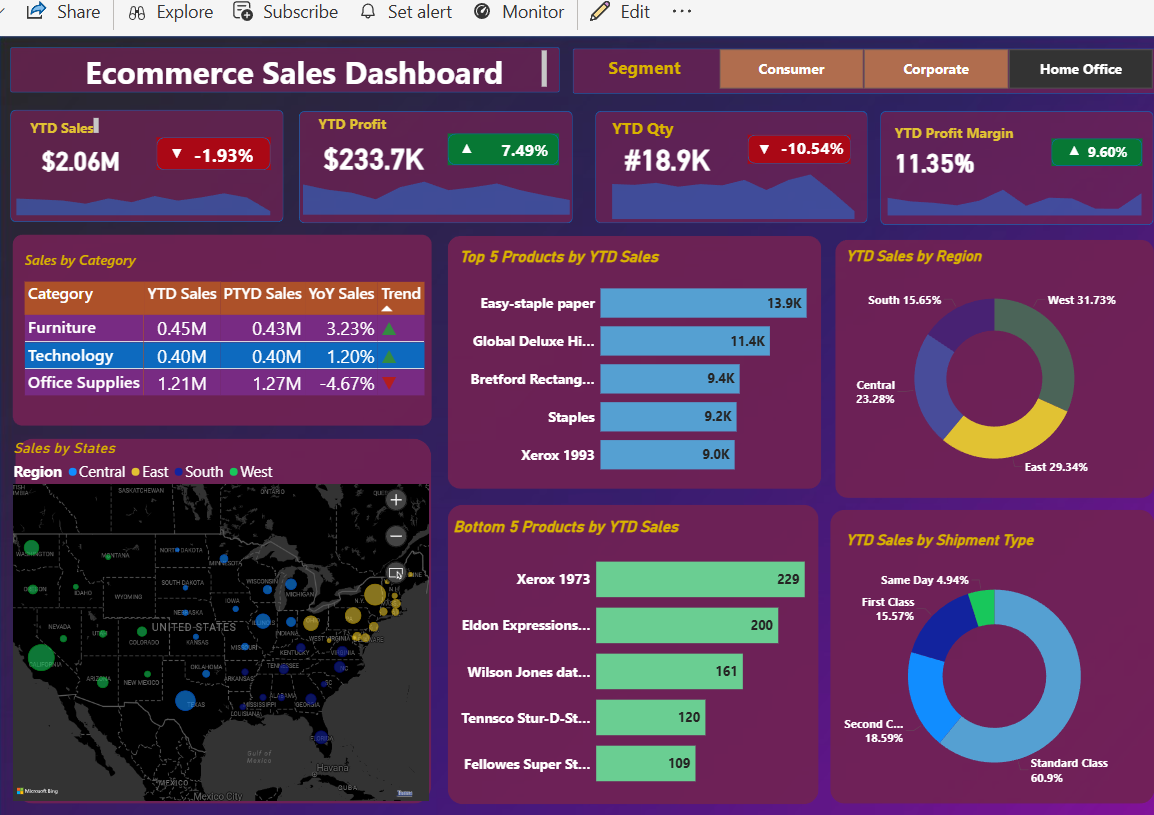

What the dashboard file says about the page in this screenshot:
{"tool":"powerbi","page":{"name":"Page 1","canvas":[1800,1200],"ordinal":0},"visuals":[{"type":"shape","box":[16.9,16.9,846.3,69.8],"z":0},{"type":"textbox","box":[126.9,16.9,721.4,69.8],"z":1000},{"type":"shape","box":[16.5,114.3,421,173],"z":2000},{"type":"card","fields":{"Values":["_Measures.YTD"]},"box":[42.3,154.4,167.1,69.8],"z":3000},{"type":"areaChart","fields":{"Category":["Calendar.Month"],"Y":["Sum(public orders.sales_per_order)"]},"box":[8.5,213.7,429.5,67.7],"z":4000},{"type":"shape","box":[243.3,156.6,175.6,50.8],"z":5000},{"type":"card","fields":{"Values":["_Measures.Sales Icon"]},"box":[226.4,152.3,93.1,59.2],"z":6000},{"type":"card","fields":{"Values":["_Measures.YoY Sales"]},"box":[294.1,152.3,103.7,63.5],"z":7000},{"type":"textbox","box":[42.3,120.6,116.4,36],"z":8000},{"type":"shape","box":[462.8,114.6,421.7,173],"z":9000},{"type":"areaChart","fields":{"Category":["Calendar.Month"],"Y":["Sum(public orders.profit_per_order)"]},"box":[448.5,203.1,450.6,78.3],"z":10000},{"type":"card","fields":{"Values":["_Measures.YTD profit"]},"box":[486.6,150.2,179.8,69.8],"z":11000},{"type":"shape","box":[691.8,150.2,171.4,48.7],"z":12000},{"type":"card","fields":{"Values":["_Measures.profit icon"]},"box":[674.9,143.9,93.1,59.2],"z":13000},{"type":"card","fields":{"Values":["_Measures.YoY profit"]},"box":[759.5,143.9,103.7,63.5],"z":14000},{"type":"textbox","box":[486.6,116.4,158.7,40.2],"z":15000},{"type":"shape","box":[919.1,114.6,419.6,173],"z":16000},{"type":"card","fields":{"Values":["_Measures.YTD Qty Concatenated"]},"box":[928.8,150.2,203.1,71.9],"z":17000},{"type":"areaChart","fields":{"Category":["Calendar.Month"],"Y":["Sum(public orders.order_quantity)"]},"box":[926.7,198.9,410.4,88.9],"z":18000},{"type":"shape","box":[1153,152.3,158.7,44.4],"z":19000},{"type":"card","fields":{"Values":["_Measures.Qty Icon"]},"box":[1131.9,146,93.1,59.2],"z":20000},{"type":"card","fields":{"Values":["_Measures.YoY Qty"]},"box":[1193.2,137.5,118.5,74],"z":21000},{"type":"textbox","box":[939.4,120.6,181.9,44.4],"z":22000},{"type":"shape","box":[1358.3,116.4,421,175.6],"z":23000},{"type":"card","fields":{"Values":["_Measures.YTD profit margin"]},"box":[1358.3,158.7,167.1,69.8],"z":24000},{"type":"areaChart","fields":{"Category":["Calendar.Month"],"Y":["_Measures.Profit Margin"]},"box":[1349.8,211.6,429.5,69.8],"z":25000},{"type":"shape","box":[1620.6,158.7,139.6,42.3],"z":26000},{"type":"card","fields":{"Values":["_Measures.Profit margin icon"]},"box":[1610,148.1,93.1,59.2],"z":27000},{"type":"card","fields":{"Values":["_Measures.YoY profit margin"]},"box":[1656.6,148.1,103.7,63.5],"z":28000},{"type":"textbox","box":[1375.2,129.1,211.6,48.7],"z":29000},{"type":"shape","title":"Sales by Category","box":[21.2,306.8,645.3,294.1],"z":30000},{"type":"pivotTable","fields":{"Rows":["public orders.category_name"],"Values":["_Measures.YTD","_Measures.PTYD","_Measures.YoY Sales","_Measures.Sales Icon"]},"box":[33.9,374.5,632.6,281.4],"z":31000},{"type":"textbox","box":[33.9,325.8,289.8,48.7],"z":32000},{"type":"shape","title":"Sales by Category","box":[25.4,619.9,641,562.8],"z":33000},{"type":"map","title":"Sales by States","fields":{"Y":["public state_locations.latitude"],"X":["public state_locations.longitude"],"Size":["_Measures.YTD"],"Series":["public orders.customer_region"]},"box":[16.9,619.9,649.5,562.8],"z":34000},{"type":"shape","title":"Sales by Category","box":[691.8,308.9,575.5,389.3],"z":34001},{"type":"shape","title":"Sales by Category","box":[691.8,721.4,571.2,461.2],"z":34002},{"type":"barChart","title":"Top 5 Products by YTD Sales ","fields":{"Category":["public orders.product_name"],"Y":["_Measures.YTD Sales"]},"box":[704.5,325.8,583.9,372.4],"z":34003},{"type":"barChart","title":"Bottom 5 Products by YTD Sales ","fields":{"Category":["public orders.product_name"],"Y":["_Measures.YTD Sales"]},"box":[696.1,740.5,592.4,442.2],"z":34004},{"type":"shape","title":"Sales by Category","box":[1280,729.9,499.3,452.8],"z":34005},{"type":"shape","title":"Sales by Category","box":[1288.4,313.1,490.8,397.7],"z":34006},{"type":"donutChart","title":"YTD Sales by Region","fields":{"Category":["public orders.customer_region"],"Y":["_Measures.YTD Sales"]},"box":[1299,325.8,467.6,378.7],"z":34007},{"type":"donutChart","title":"YTD Sales by Shipment Type","fields":{"Y":["_Measures.YTD Sales"],"Category":["public orders.shipping_type"]},"box":[1299,761.6,467.6,421],"z":34008},{"type":"shape","box":[884.3,19,899.2,69.8],"z":34009},{"type":"slicer","fields":{"Values":["public orders.customer_segment"]},"box":[1083.2,12.7,717.2,74],"z":34010},{"type":"textbox","box":[933,25.4,245.4,48.7],"z":34011}]}

Visuals, with their boxes on the page's 1800x1200 design canvas (x1, y1, x2, y2). These are canvas units, not pixel positions in the 1154x815 screenshot, which may show the page scaled, cropped or inside an application window:
shape: {"x1": 17, "y1": 17, "x2": 863, "y2": 87}
textbox: {"x1": 127, "y1": 17, "x2": 848, "y2": 87}
shape: {"x1": 16, "y1": 114, "x2": 438, "y2": 287}
card - _Measures.YTD: {"x1": 42, "y1": 154, "x2": 209, "y2": 224}
areaChart - Calendar.Month x Sum(public orders.sales_per_order): {"x1": 8, "y1": 214, "x2": 438, "y2": 281}
shape: {"x1": 243, "y1": 157, "x2": 419, "y2": 207}
card - _Measures.Sales Icon: {"x1": 226, "y1": 152, "x2": 320, "y2": 212}
card - _Measures.YoY Sales: {"x1": 294, "y1": 152, "x2": 398, "y2": 216}
textbox: {"x1": 42, "y1": 121, "x2": 159, "y2": 157}
shape: {"x1": 463, "y1": 115, "x2": 884, "y2": 288}
areaChart - Calendar.Month x Sum(public orders.profit_per_order): {"x1": 448, "y1": 203, "x2": 899, "y2": 281}
card - _Measures.YTD profit: {"x1": 487, "y1": 150, "x2": 666, "y2": 220}
shape: {"x1": 692, "y1": 150, "x2": 863, "y2": 199}
card - _Measures.profit icon: {"x1": 675, "y1": 144, "x2": 768, "y2": 203}
card - _Measures.YoY profit: {"x1": 760, "y1": 144, "x2": 863, "y2": 207}
textbox: {"x1": 487, "y1": 116, "x2": 645, "y2": 157}
shape: {"x1": 919, "y1": 115, "x2": 1339, "y2": 288}
card - _Measures.YTD Qty Concatenated: {"x1": 929, "y1": 150, "x2": 1132, "y2": 222}
areaChart - Calendar.Month x Sum(public orders.order_quantity): {"x1": 927, "y1": 199, "x2": 1337, "y2": 288}
shape: {"x1": 1153, "y1": 152, "x2": 1312, "y2": 197}
card - _Measures.Qty Icon: {"x1": 1132, "y1": 146, "x2": 1225, "y2": 205}
card - _Measures.YoY Qty: {"x1": 1193, "y1": 138, "x2": 1312, "y2": 212}
textbox: {"x1": 939, "y1": 121, "x2": 1121, "y2": 165}
shape: {"x1": 1358, "y1": 116, "x2": 1779, "y2": 292}
card - _Measures.YTD profit margin: {"x1": 1358, "y1": 159, "x2": 1525, "y2": 228}
areaChart - Calendar.Month x _Measures.Profit Margin: {"x1": 1350, "y1": 212, "x2": 1779, "y2": 281}
shape: {"x1": 1621, "y1": 159, "x2": 1760, "y2": 201}
card - _Measures.Profit margin icon: {"x1": 1610, "y1": 148, "x2": 1703, "y2": 207}
card - _Measures.YoY profit margin: {"x1": 1657, "y1": 148, "x2": 1760, "y2": 212}
textbox: {"x1": 1375, "y1": 129, "x2": 1587, "y2": 178}
"Sales by Category" shape: {"x1": 21, "y1": 307, "x2": 666, "y2": 601}
pivotTable - public orders.category_name x _Measures.YTD: {"x1": 34, "y1": 374, "x2": 666, "y2": 656}
textbox: {"x1": 34, "y1": 326, "x2": 324, "y2": 374}
"Sales by Category" shape: {"x1": 25, "y1": 620, "x2": 666, "y2": 1183}
"Sales by States" map: {"x1": 17, "y1": 620, "x2": 666, "y2": 1183}
"Sales by Category" shape: {"x1": 692, "y1": 309, "x2": 1267, "y2": 698}
"Sales by Category" shape: {"x1": 692, "y1": 721, "x2": 1263, "y2": 1183}
"Top 5 Products by YTD Sales " barChart: {"x1": 704, "y1": 326, "x2": 1288, "y2": 698}
"Bottom 5 Products by YTD Sales " barChart: {"x1": 696, "y1": 740, "x2": 1288, "y2": 1183}
"Sales by Category" shape: {"x1": 1280, "y1": 730, "x2": 1779, "y2": 1183}
"Sales by Category" shape: {"x1": 1288, "y1": 313, "x2": 1779, "y2": 711}
"YTD Sales by Region" donutChart: {"x1": 1299, "y1": 326, "x2": 1767, "y2": 704}
"YTD Sales by Shipment Type" donutChart: {"x1": 1299, "y1": 762, "x2": 1767, "y2": 1183}
shape: {"x1": 884, "y1": 19, "x2": 1784, "y2": 89}
slicer - public orders.customer_segment: {"x1": 1083, "y1": 13, "x2": 1800, "y2": 87}
textbox: {"x1": 933, "y1": 25, "x2": 1178, "y2": 74}
